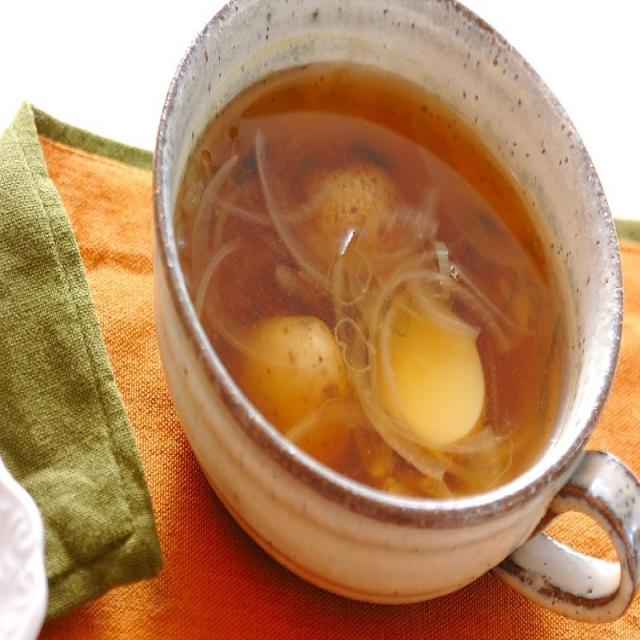汤锅炖物: (154, 0, 622, 584)
